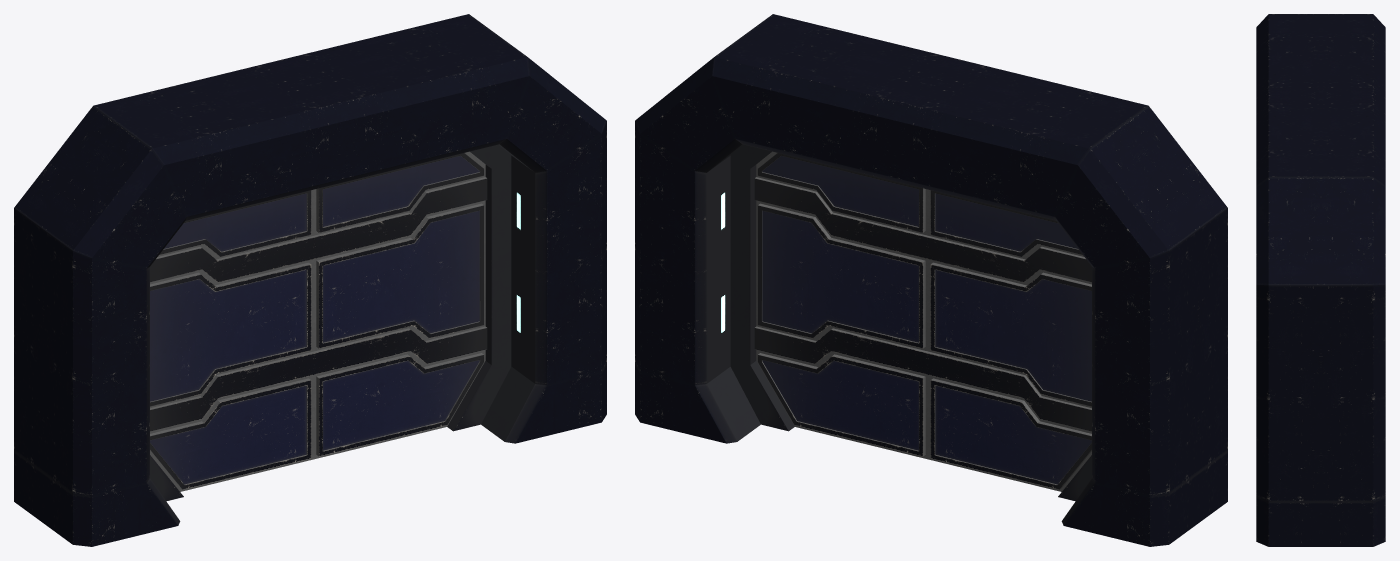
Rendered from gate_1.glb.
3 renders of one model, left to right at view 1: azimuth 30°, elevation 25°; view 2: azimuth 150°, elevation 25°; view 3: azimuth 270°, elevation 25°, orthographic. The views are drawn at different scales.
Parts seen in each view (by area): view 1: Door_LP; view 2: Door_LP; view 3: Door_LP.
Part boxes in pixels (bbox=[...]): Door_LP: bbox=[14, 14, 606, 546]; Door_LP: bbox=[635, 14, 1227, 546]; Door_LP: bbox=[1256, 14, 1385, 546].
Bounding box in the file's own units: 4.09 × 2.76 × 0.966.
1 material, 1 textured.
